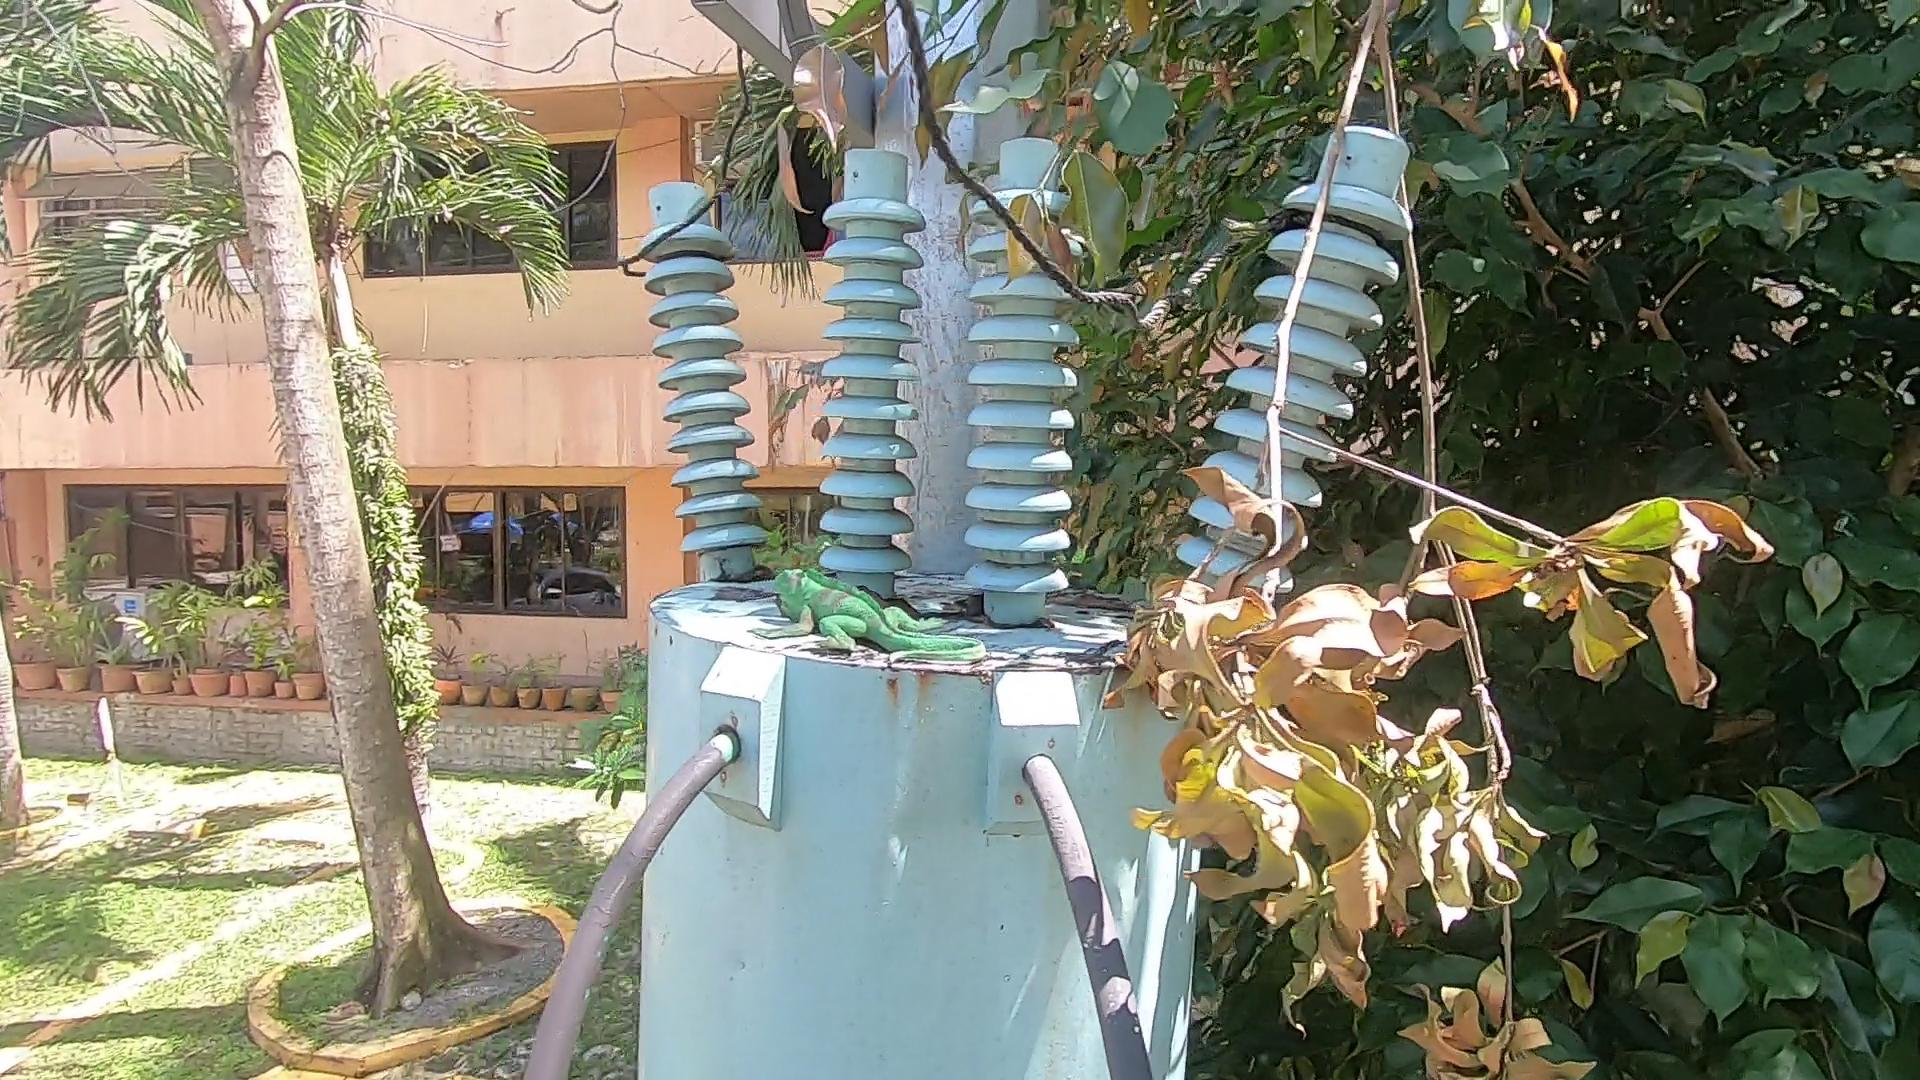branch with leaves: (1098, 1, 1749, 1075)
leaf: (856, 585, 927, 621)
